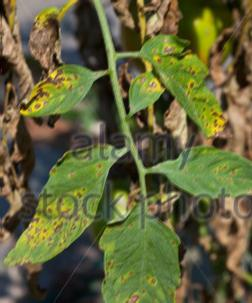Tomato Septoria leaf spot: (0, 137, 113, 274), (133, 26, 235, 135), (95, 196, 189, 303), (155, 137, 252, 211), (14, 60, 110, 123)
